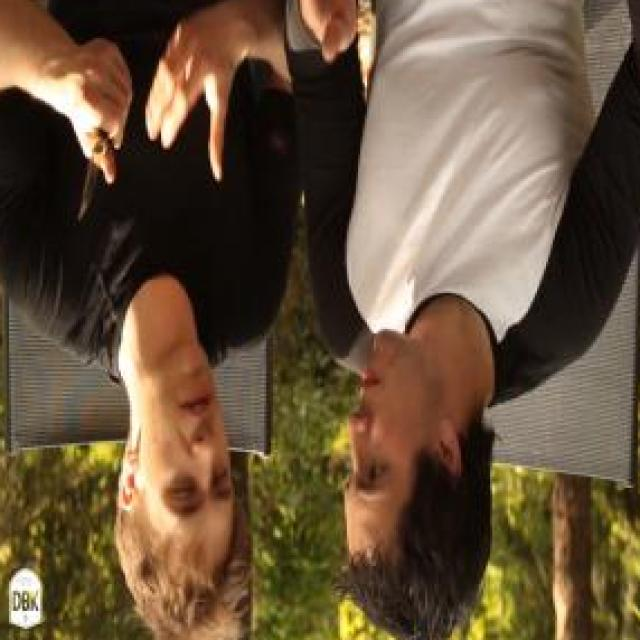knife: (58, 63, 136, 244)
